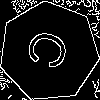C: (24, 26, 79, 77)
